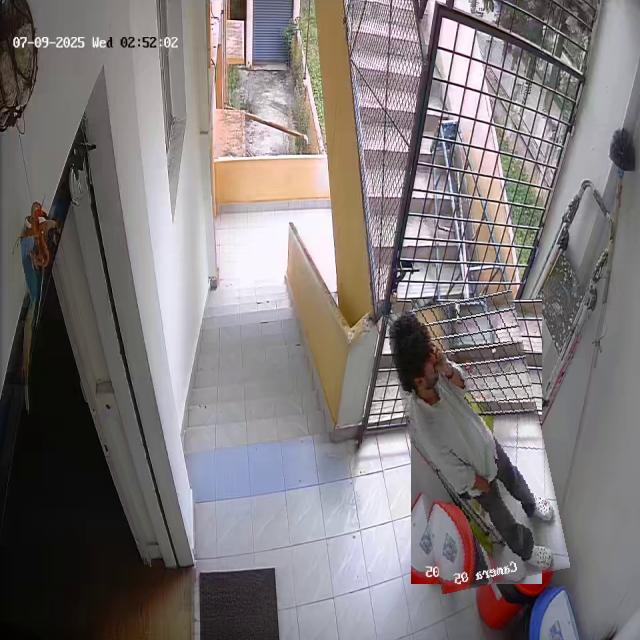person: (397, 294, 556, 589)
